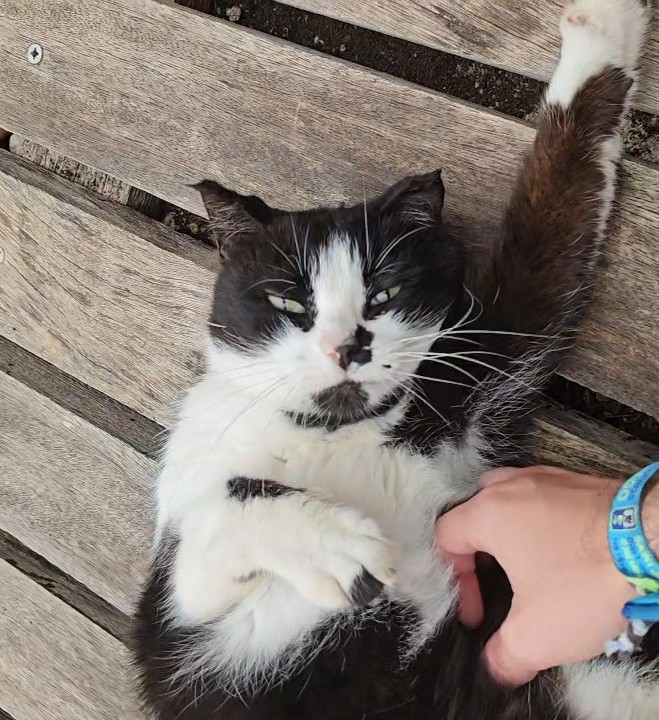cat: (160, 160, 520, 450)
